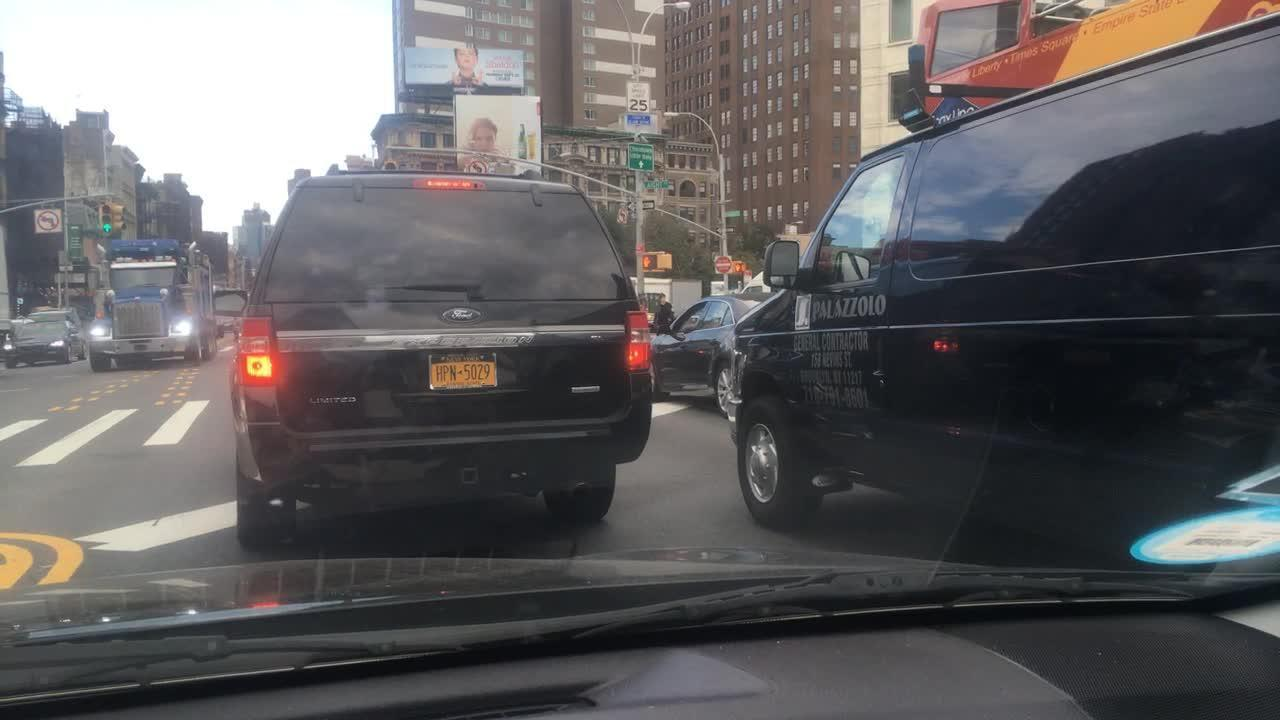ford: (439, 303, 484, 325)
